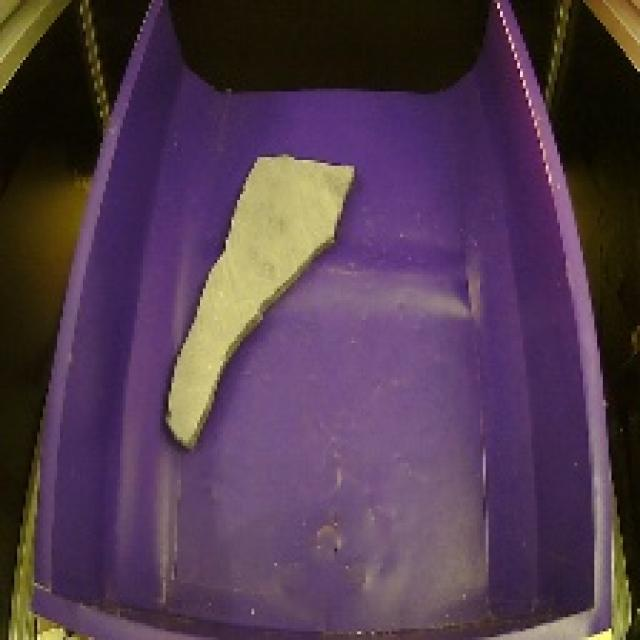china: (154, 142, 363, 464)
